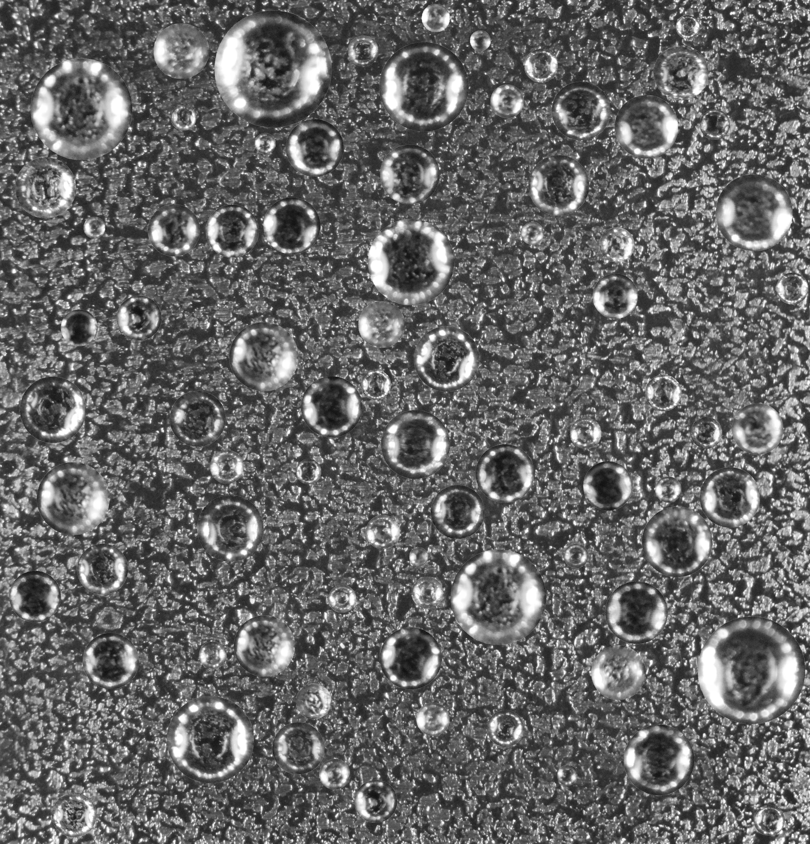Bubble: (214, 10, 331, 127), (697, 616, 805, 724), (30, 58, 132, 159), (450, 549, 546, 644), (379, 42, 468, 131), (166, 696, 253, 783), (368, 219, 454, 305), (715, 174, 792, 250), (36, 462, 109, 534), (623, 724, 694, 795), (642, 506, 712, 577), (229, 322, 298, 391), (381, 410, 449, 478), (19, 376, 86, 442), (197, 495, 263, 561), (414, 326, 479, 391), (614, 95, 678, 158), (379, 627, 441, 689), (605, 581, 667, 643), (233, 615, 294, 676), (301, 376, 362, 437), (15, 157, 75, 218), (528, 155, 589, 215), (699, 467, 760, 527), (380, 144, 439, 204), (551, 81, 610, 140), (475, 444, 534, 502), (286, 119, 343, 176), (263, 197, 320, 254), (82, 633, 138, 689), (169, 390, 225, 446), (153, 23, 208, 78), (653, 45, 708, 100), (591, 645, 645, 699), (430, 485, 484, 538), (205, 204, 258, 257), (147, 204, 199, 256), (272, 722, 324, 774), (9, 570, 60, 622), (732, 403, 783, 454), (77, 543, 127, 594), (583, 461, 632, 510), (358, 301, 404, 347), (51, 792, 96, 837), (592, 273, 637, 318), (116, 295, 161, 340), (354, 780, 397, 822), (60, 309, 97, 346), (645, 374, 681, 411), (295, 683, 331, 719), (487, 710, 523, 746), (599, 227, 634, 262), (365, 515, 399, 549), (524, 48, 557, 82), (210, 450, 243, 483), (416, 702, 449, 735), (490, 84, 523, 117), (776, 272, 808, 304), (411, 576, 443, 608), (690, 417, 722, 448), (347, 35, 378, 66), (570, 417, 601, 448), (699, 109, 730, 139), (754, 805, 784, 835), (319, 759, 349, 789), (361, 369, 390, 399), (421, 3, 449, 31), (328, 585, 356, 612), (199, 641, 226, 669), (655, 476, 681, 502), (170, 105, 196, 130), (296, 459, 321, 484), (564, 543, 588, 568), (676, 15, 699, 38), (521, 222, 543, 244), (83, 216, 105, 238), (254, 133, 275, 153), (470, 30, 490, 50), (557, 765, 577, 785), (409, 547, 428, 566)
